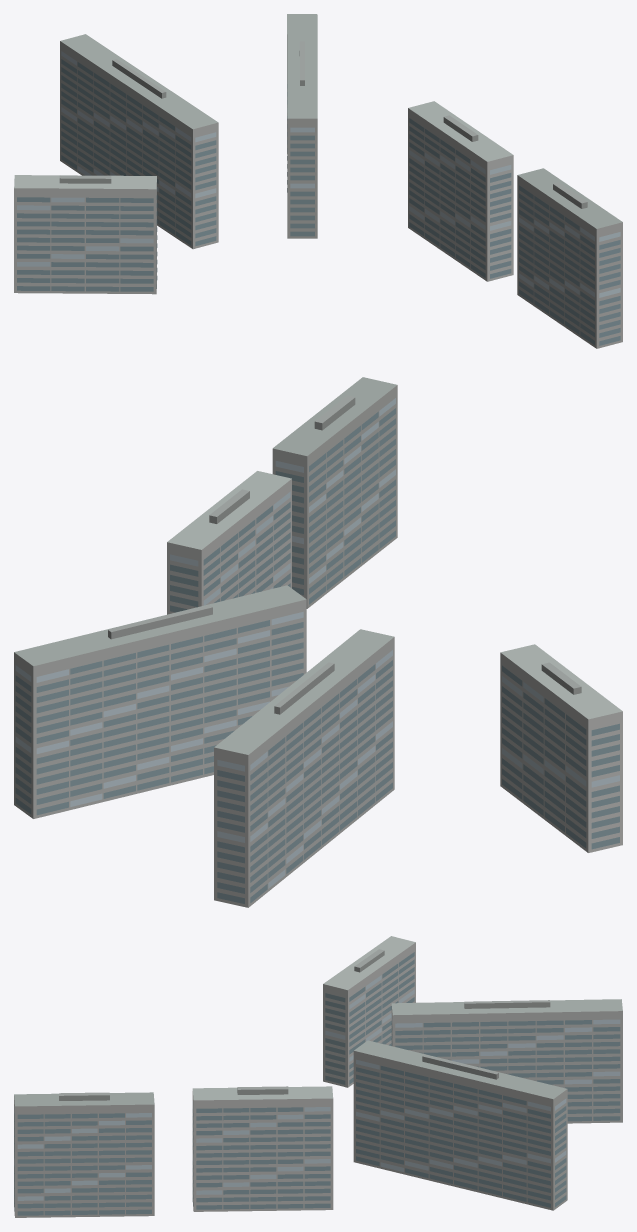
File: apt-a13204302.glb
3 renders of one model, top to bottom at view 1: azimuth 30°, elevation 25°; view 2: azimuth 150°, elevation 25°; view 3: azimuth 270°, elevation 25°, orthographic. The views are drawn at different scales.
Parts seen in each view (by area): view 1: apt-a13204302; view 2: apt-a13204302; view 3: apt-a13204302.
Part boxes in pixels (x1,y1,x2,y2): apt-a13204302: (14, 14, 622, 348); apt-a13204302: (14, 377, 622, 907); apt-a13204302: (14, 936, 622, 1217).
Bounding box in the file's own units: 135 × 40 × 189.
